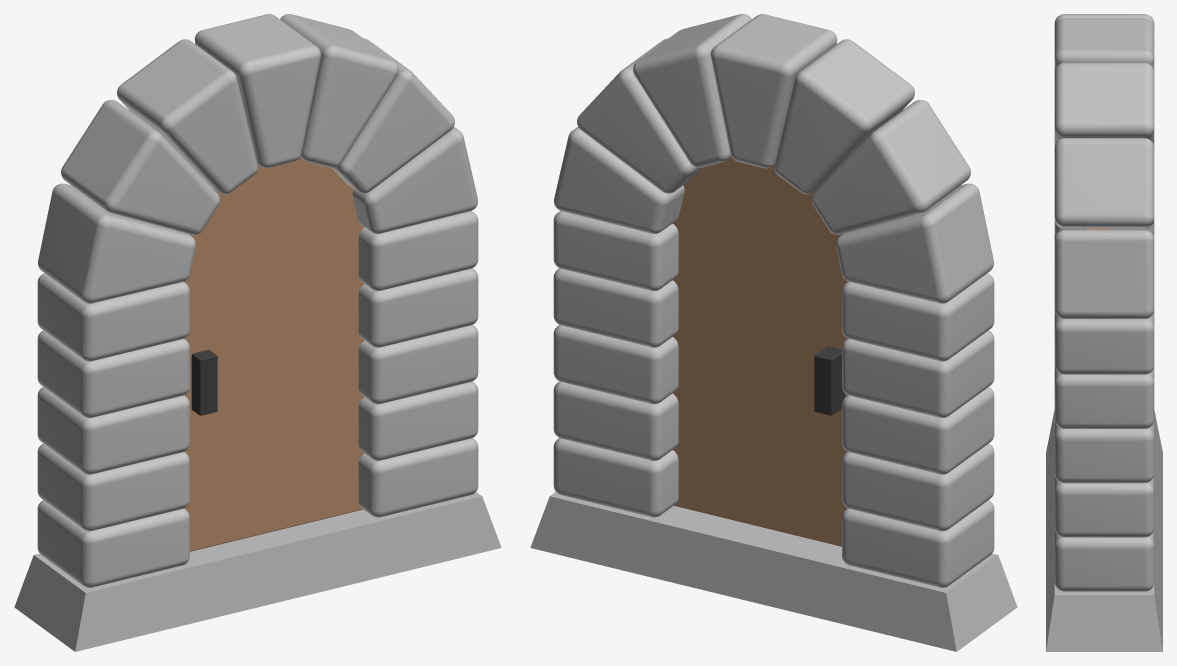
File: openscad_customizable-stone-door.glb
3 renders of one model, left to right at view 1: azimuth 30°, elevation 25°; view 2: azimuth 150°, elevation 25°; view 3: azimuth 270°, elevation 25°, orthographic. The views are drawn at different scales.
Visible parts, largest first — view 1: object; view 2: object; view 3: object.
Part boxes in pixels (x1,y1,x2,y2): object: [14, 14, 501, 651]; object: [530, 14, 1017, 651]; object: [1046, 14, 1162, 651].
Bounding box in the file's own units: 47.31 × 57.21 × 11.71.
